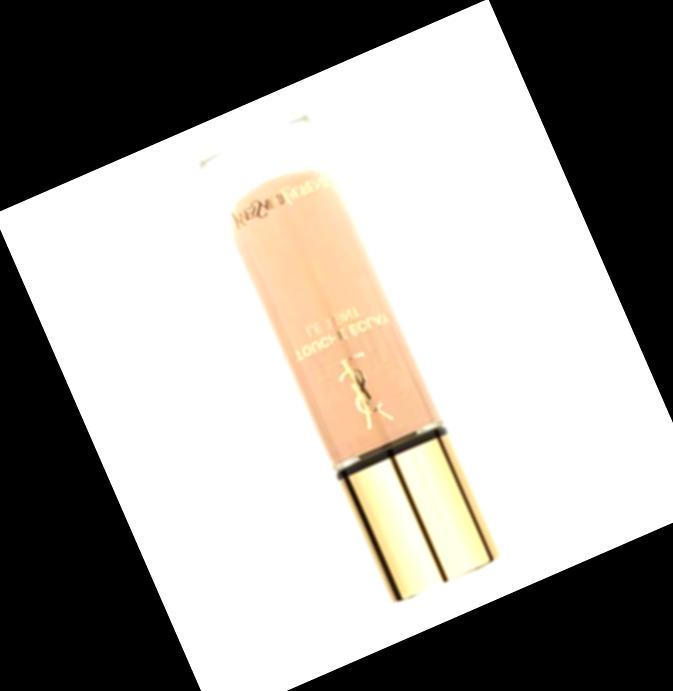cosmetic: (192, 101, 509, 609)
